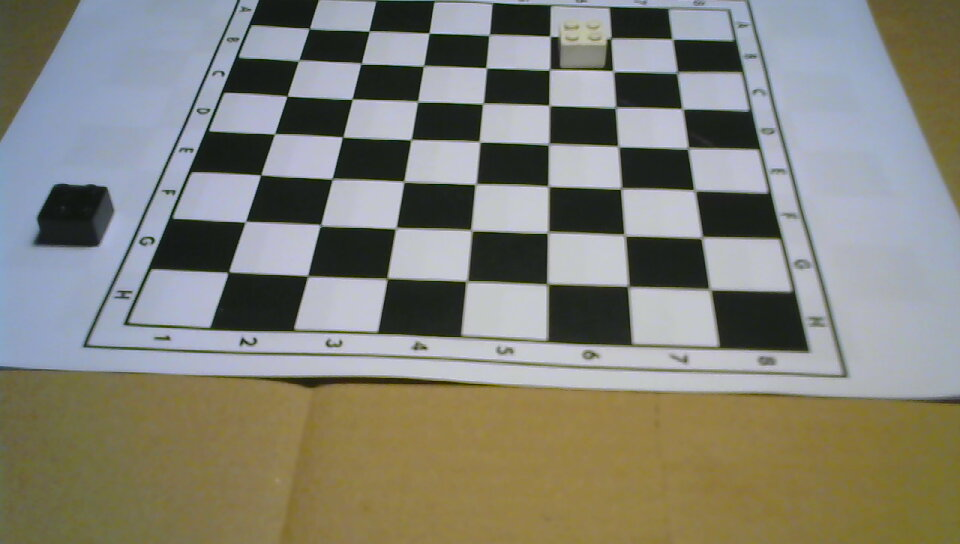bp: (37, 184, 113, 248)
wp: (557, 20, 607, 68)
